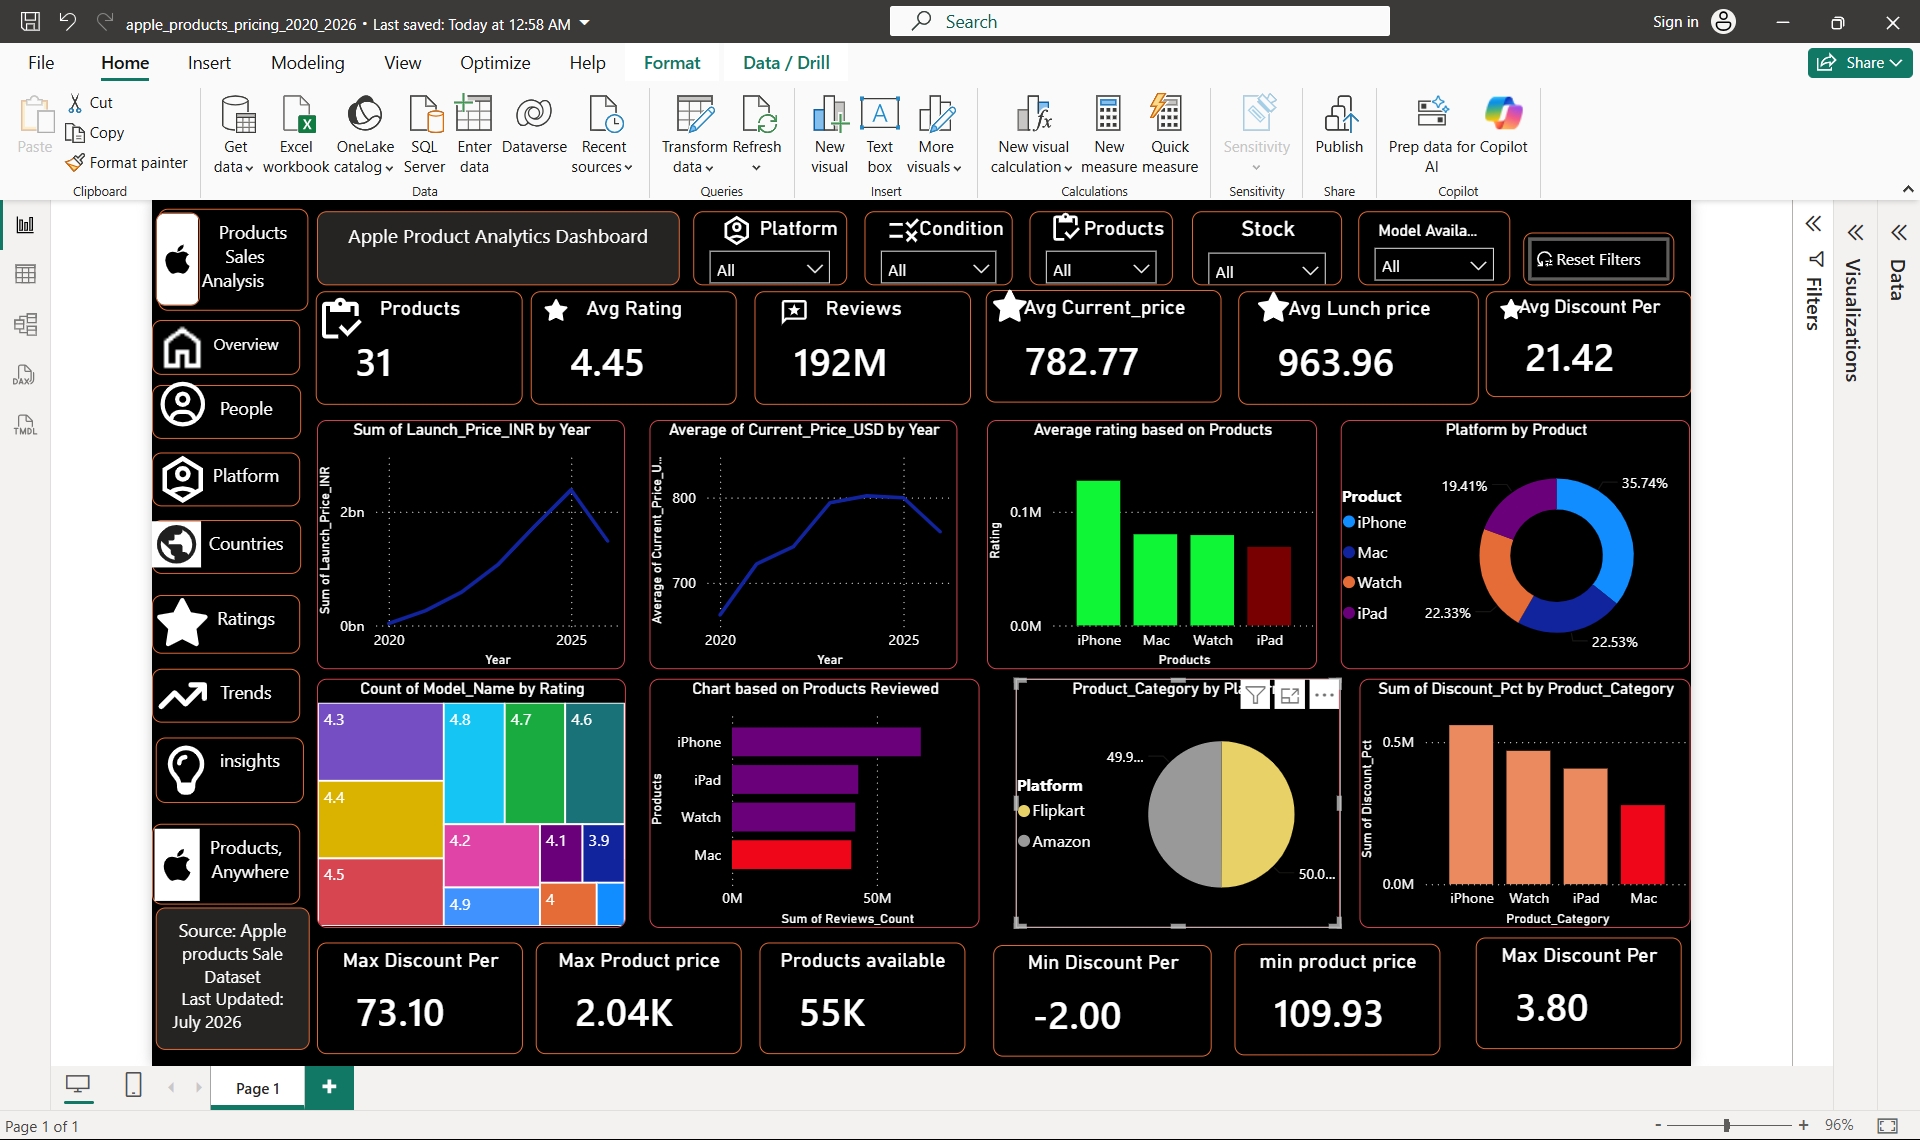

What the dashboard file says about the page in this screenshot:
{"tool":"powerbi","page":{"name":"Page 1","canvas":[1280,720],"ordinal":0},"visuals":[{"type":"textbox","box":[137.2,9.6,301.9,61.7],"z":0},{"type":"textbox","box":[2.8,588.5,128,118.3],"z":1000},{"type":"slicer","title":"Stock","fields":{"Values":["apple_products_pricing_2020_2026.Stock_Status"]},"box":[864.5,9.6,124.9,61.7],"z":2000},{"type":"textbox","box":[5,7,124.4,84.9],"z":3000,"group":"g30"},{"type":"slicer","fields":{"Values":["apple_products_pricing_2020_2026.Model_Name"]},"box":[1003.1,9.6,126.2,61.7],"z":3000},{"type":"textbox","box":[0,100.2,123.5,45.3],"z":3000,"group":"g5"},{"type":"textbox","box":[0,152.9,123.8,44.5],"z":3000,"group":"g23"},{"type":"textbox","box":[0,210.1,123.5,44.7],"z":3000,"group":"g24"},{"type":"textbox","box":[0,265.7,123.8,44.5],"z":3000,"group":"g25"},{"type":"textbox","box":[0,328.3,123.5,48.9],"z":3000,"group":"g26"},{"type":"textbox","box":[0,389.6,123.5,44.7],"z":3000,"group":"g27"},{"type":"textbox","box":[2.8,446.6,123.5,54.5],"z":3000,"group":"g28"},{"type":"textbox","box":[0,519,123.5,67.1],"z":3000,"group":"g29"},{"type":"image","box":[2.8,10.4,36.4,77.9],"z":4000,"group":"g30"},{"type":"actionButton","box":[1140.4,27.2,126,44.3],"z":4000},{"type":"image","box":[0,100.2,50.8,45.3],"z":4000,"group":"g5"},{"type":"image","box":[0,146.1,50.8,46.7],"z":4000,"group":"g23"},{"type":"image","box":[0,210.1,50.8,44.7],"z":4000,"group":"g24"},{"type":"image","box":[0,266.3,40.5,38.8],"z":4000,"group":"g25"},{"type":"image","box":[0,328.3,50.8,48.9],"z":4000,"group":"g26"},{"type":"image","box":[0,389.6,50.8,44.7],"z":4000,"group":"g27"},{"type":"image","box":[2.8,446.6,50.8,54.5],"z":4000,"group":"g28"},{"type":"image","box":[1.6,523.5,37.6,59.8],"z":4000,"group":"g29"},{"type":"image","box":[755.3,19.2,28.8,8.4],"z":5000},{"type":"image","box":[765.3,29.2,28.8,8.4],"z":6000},{"type":"image","box":[1149.1,33.6,16.8,31.2],"z":7000},{"type":"columnChart","title":"Average rating based on Products","fields":{"Category":["apple_products_pricing_2020_2026.Product_Category"],"Y":["Sum(apple_products_pricing_2020_2026.Rating)"]},"box":[694.2,182.6,274.4,207],"z":8000},{"type":"group","id":"g1","title":"Group 1","box":[135.8,75.9,172.1,94.2],"z":9000},{"type":"group","id":"g2","title":"Group 3","box":[730,9.6,119.4,61.7],"z":10000},{"type":"group","id":"g3","title":"Group 4","box":[591.9,9.3,123.3,61.6],"z":11000},{"type":"group","id":"g4","title":"Group 5","box":[450.1,9.6,127.6,61.7],"z":12000},{"type":"group","id":"g5","title":"Group 6","box":[0,100.2,123.8,45.9],"z":13000},{"type":"group","id":"g6","title":"Group 1","box":[315.1,75.6,170.9,94.2],"z":14000},{"type":"group","id":"g7","title":"Group 1","box":[501.2,75.6,180.2,94.2],"z":15000},{"type":"group","id":"g8","title":"Group 1","box":[688.4,73.3,201.2,96.5],"z":16000},{"type":"slicer","title":"Platform","fields":{"Values":["apple_products_pricing_2020_2026.Platform"]},"box":[450.1,9.6,127.6,61.7],"z":16004,"group":"g4"},{"type":"slicer","title":"Condition","fields":{"Values":["apple_products_pricing_2020_2026.Condition"]},"box":[591.9,9.3,123.3,61.6],"z":16005,"group":"g3"},{"type":"slicer","title":"Products","fields":{"Values":["apple_products_pricing_2020_2026.Product_Category"]},"box":[730,9.6,119.4,61.7],"z":16006,"group":"g2"},{"type":"cardVisual","title":"Avg Lunch price","fields":{"Data":["Avg(apple_products_pricing_2020_2026.Launch_Price_USD)"]},"box":[903.5,75.1,200.3,94.4],"z":16011,"group":"g10"},{"type":"cardVisual","title":"Avg Rating","fields":{"Data":["Avg(apple_products_pricing_2020_2026.Rating)"]},"box":[315.1,75.6,170.9,94.2],"z":16011,"group":"g11"},{"type":"cardVisual","title":"Reviews","fields":{"Data":["Sum(apple_products_pricing_2020_2026.Reviews_Count)"]},"box":[501.2,75.6,180.2,94.2],"z":16011,"group":"g12"},{"type":"cardVisual","title":"Avg Current_price","fields":{"Data":["Avg(apple_products_pricing_2020_2026.Current_Price_USD)"]},"box":[693.9,75.6,196.2,93.7],"z":16011,"group":"g9"},{"type":"cardVisual","title":"Products","fields":{"Data":["apple_products_pricing_2020_2026.Total Products"]},"box":[135.8,75.9,172.1,94.2],"z":16011,"group":"g13"},{"type":"cardVisual","title":"Avg Discount Per","fields":{"Data":["Avg(apple_products_pricing_2020_2026.Discount_Pct)"]},"box":[1109,76.1,170.9,88.4],"z":16011,"group":"g14"},{"type":"cardVisual","title":"Max Discount Per","fields":{"Data":["apple_products_pricing_2020_2026.lowest rating"]},"box":[1100.8,612.8,170.9,93],"z":16011,"group":"g15"},{"type":"cardVisual","title":"Max Discount Per","fields":{"Data":["apple_products_pricing_2020_2026.Max Discount"]},"box":[137.2,617.4,170.9,93],"z":16011,"group":"g16"},{"type":"cardVisual","title":"Max Product price","fields":{"Data":["apple_products_pricing_2020_2026.Highest Product Price"]},"box":[318.6,617.4,170.9,93],"z":16011,"group":"g17"},{"type":"cardVisual","title":"Products  available","fields":{"Data":["apple_products_pricing_2020_2026.Total stock Available"]},"box":[504.7,617.4,170.9,93],"z":16011,"group":"g18"},{"type":"cardVisual","title":"min product price","fields":{"Data":["apple_products_pricing_2020_2026.Min product price"]},"box":[900.2,618.9,170.9,93],"z":16011,"group":"g19"},{"type":"cardVisual","title":"Min Discount Per","fields":{"Data":["apple_products_pricing_2020_2026.Min Discount per"]},"box":[699,619.6,181.4,93],"z":16011,"group":"g20"},{"type":"image","box":[688.4,73.3,50.1,32.6],"z":16016,"group":"g9"},{"type":"image","box":[912.8,74.4,40.3,30.2],"z":16016,"group":"g10"},{"type":"image","box":[135.8,78.1,41,43.7],"z":16016,"group":"g13"},{"type":"image","box":[316,81,40.1,22.1],"z":16016,"group":"g11"},{"type":"image","box":[507.7,81.1,53.3,24.9],"z":16016,"group":"g12"},{"type":"image","box":[1109.9,81.2,40.1,20.7],"z":16016,"group":"g14"},{"type":"image","box":[745.6,9.6,28.8,27.6],"z":16017,"group":"g2"},{"type":"image","box":[471.9,12,28.8,27.6],"z":16020,"group":"g4"},{"type":"image","box":[608,10.5,32.4,30],"z":16021,"group":"g3"},{"type":"group","id":"g9","title":"Group 2","box":[688.4,73.3,201.7,96],"z":16025,"group":"g8"},{"type":"group","id":"g10","title":"Group 2","box":[903.5,74.4,200.3,95.1],"z":16025,"group":"g21"},{"type":"group","id":"g11","title":"Group 2","box":[315.1,75.6,170.9,94.2],"z":16025,"group":"g6"},{"type":"group","id":"g12","title":"Group 2","box":[501.2,75.6,180.2,94.2],"z":16025,"group":"g7"},{"type":"group","id":"g13","title":"Group 2","box":[135.8,75.9,172.1,94.2],"z":16025,"group":"g1"},{"type":"group","id":"g14","title":"Group 2","box":[1109,76.1,170.9,88.4],"z":16025,"group":"g22"},{"type":"group","id":"g15","title":"Group 2","box":[1100.8,612.8,170.9,93],"z":16025,"group":"g36"},{"type":"group","id":"g16","title":"Group 2","box":[137.2,617.4,170.9,93],"z":16025,"group":"g31"},{"type":"group","id":"g17","title":"Group 2","box":[318.6,617.4,170.9,93],"z":16025,"group":"g32"},{"type":"group","id":"g18","title":"Group 2","box":[504.7,617.4,170.9,93],"z":16025,"group":"g33"},{"type":"group","id":"g19","title":"Group 2","box":[900.2,618.9,170.9,93],"z":16025,"group":"g35"},{"type":"group","id":"g20","title":"Group 2","box":[699,619.6,181.4,93],"z":16025,"group":"g34"},{"type":"group","id":"g21","title":"Group 1","box":[903.5,74.4,200,95.3],"z":17000},{"type":"group","id":"g22","title":"Group 1","box":[1109,76.1,170.9,88.4],"z":18000},{"type":"group","id":"g23","title":"Group 6","box":[0,146.1,123.8,51.4],"z":19000},{"type":"group","id":"g24","title":"Group 6","box":[0,210.1,123.8,44.5],"z":20000},{"type":"group","id":"g25","title":"Group 6","box":[0,265.7,123.8,44.5],"z":21000},{"type":"group","id":"g26","title":"Group 6","box":[0,328.3,123.8,48.7],"z":22000},{"type":"group","id":"g27","title":"Group 6","box":[0,389.6,123.8,44.5],"z":23000},{"type":"group","id":"g28","title":"Group 6","box":[2.8,446.6,123.8,54.3],"z":24000},{"type":"group","id":"g29","title":"Group 6","box":[0,519,122.4,66.8],"z":25000},{"type":"group","id":"g30","title":"Group 6","box":[2.8,7,126.6,84.9],"z":26000},{"type":"lineChart","fields":{"Category":["apple_products_pricing_2020_2026.Year"],"Y":["Avg(apple_products_pricing_2020_2026.Current_Price_USD)"]},"box":[414,182.6,255.8,207],"z":27000},{"type":"lineChart","fields":{"Category":["apple_products_pricing_2020_2026.Year"],"Y":["Sum(apple_products_pricing_2020_2026.Launch_Price_INR)"]},"box":[137.2,182.6,255.8,207],"z":28000},{"type":"donutChart","fields":{"Y":["CountNonNull(apple_products_pricing_2020_2026.Platform)"],"Category":["apple_products_pricing_2020_2026.Product_Category"]},"box":[988.4,182.6,290.7,207],"z":29000},{"type":"treemap","fields":{"Values":["CountNonNull(apple_products_pricing_2020_2026.Model_Name)"],"Details":["apple_products_pricing_2020_2026.Rating"]},"box":[137.2,397.7,257,207],"z":30000},{"type":"group","id":"g31","title":"Group 1","box":[137.2,617.4,170.9,93],"z":31000},{"type":"barChart","title":"Chart based on Products Reviewed","fields":{"Category":["apple_products_pricing_2020_2026.Product_Category"],"Y":["Sum(apple_products_pricing_2020_2026.Reviews_Count)"]},"box":[414,397.7,274.4,207],"z":31001},{"type":"pieChart","title":"Product_Category by Platform","fields":{"Y":["CountNonNull(apple_products_pricing_2020_2026.Product_Category)"],"Category":["apple_products_pricing_2020_2026.Platform"]},"box":[718.6,397.7,269.8,207],"z":31002},{"type":"clusteredColumnChart","fields":{"Category":["apple_products_pricing_2020_2026.Product_Category"],"Y":["Sum(apple_products_pricing_2020_2026.Discount_Pct)"]},"box":[1003.5,397.7,275.6,207],"z":31003},{"type":"group","id":"g32","title":"Group 1","box":[318.6,617.4,170.9,93],"z":31004},{"type":"group","id":"g33","title":"Group 1","box":[504.7,617.4,170.9,93],"z":31005},{"type":"group","id":"g34","title":"Group 1","box":[699,619.6,181.4,93],"z":31006},{"type":"group","id":"g35","title":"Group 1","box":[900.2,618.9,170.9,93],"z":31007},{"type":"group","id":"g36","title":"Group 1","box":[1100.8,612.8,170.9,93],"z":31008}]}

Visuals, with their boxes in screenshot pixels (x1, y1, x2, y2):
textbox: crop(148, 0, 628, 38)
textbox: crop(0, 861, 138, 1049)
"Stock" slicer: crop(1305, 0, 1503, 38)
textbox: crop(0, 0, 136, 71)
slicer - apple_products_pricing_2020_2026.Model_Name: crop(1525, 0, 1726, 38)
textbox: crop(0, 84, 126, 156)
textbox: crop(0, 168, 127, 239)
textbox: crop(0, 259, 126, 330)
textbox: crop(0, 347, 127, 418)
textbox: crop(0, 447, 126, 525)
textbox: crop(0, 544, 126, 616)
textbox: crop(0, 635, 131, 722)
textbox: crop(0, 750, 126, 857)
actionButton: crop(1743, 0, 1919, 39)
image: crop(0, 84, 11, 156)
image: crop(0, 157, 11, 232)
image: crop(0, 259, 11, 330)
image: crop(0, 447, 11, 525)
image: crop(0, 544, 11, 616)
image: crop(0, 635, 15, 722)
image: crop(1757, 0, 1784, 28)
"Average rating based on Products" columnChart: crop(1034, 215, 1470, 544)
"Group 1" group: crop(146, 46, 420, 195)
"Group 3" group: crop(1091, 0, 1281, 38)
"Group 4" group: crop(871, 0, 1067, 38)
"Group 5" group: crop(646, 0, 849, 38)
"Group 6" group: crop(0, 84, 127, 157)
"Group 1" group: crop(431, 45, 703, 195)
"Group 1" group: crop(727, 45, 1013, 195)
"Group 1" group: crop(1025, 42, 1344, 195)
"Platform" slicer: crop(646, 0, 849, 38)
"Condition" slicer: crop(871, 0, 1067, 38)
"Products" slicer: crop(1091, 0, 1281, 38)
"Avg Lunch price" cardVisual: crop(1367, 44, 1685, 195)
"Avg Rating" cardVisual: crop(431, 45, 703, 195)
"Reviews" cardVisual: crop(727, 45, 1013, 195)
"Avg Current_price" cardVisual: crop(1033, 45, 1345, 194)
"Products" cardVisual: crop(146, 46, 420, 195)
"Avg Discount Per" cardVisual: crop(1693, 46, 1919, 187)
"Max Discount Per" cardVisual: crop(1680, 899, 1919, 1047)
"Max Discount Per" cardVisual: crop(148, 907, 420, 1055)
"Max Product price" cardVisual: crop(437, 907, 708, 1055)
"Products  available" cardVisual: crop(732, 907, 1004, 1055)
"min product price" cardVisual: crop(1361, 909, 1633, 1057)
"Min Discount Per" cardVisual: crop(1041, 910, 1330, 1058)
image: crop(1025, 42, 1104, 93)
image: crop(1381, 43, 1445, 91)
image: crop(146, 49, 211, 119)
image: crop(432, 54, 496, 89)
image: crop(737, 54, 822, 94)
image: crop(1695, 54, 1758, 87)
"Group 2" group: crop(1025, 42, 1345, 194)
"Group 2" group: crop(1367, 43, 1685, 195)
"Group 2" group: crop(431, 45, 703, 195)
"Group 2" group: crop(727, 45, 1013, 195)
"Group 2" group: crop(146, 46, 420, 195)
"Group 2" group: crop(1693, 46, 1919, 187)
"Group 2" group: crop(1680, 899, 1919, 1047)
"Group 2" group: crop(148, 907, 420, 1055)
"Group 2" group: crop(437, 907, 708, 1055)
"Group 2" group: crop(732, 907, 1004, 1055)
"Group 2" group: crop(1361, 909, 1633, 1057)
"Group 2" group: crop(1041, 910, 1330, 1058)
"Group 1" group: crop(1367, 43, 1685, 195)
"Group 1" group: crop(1693, 46, 1919, 187)
"Group 6" group: crop(0, 157, 127, 239)
"Group 6" group: crop(0, 259, 127, 330)
"Group 6" group: crop(0, 347, 127, 418)
"Group 6" group: crop(0, 447, 127, 524)
"Group 6" group: crop(0, 544, 127, 615)
"Group 6" group: crop(0, 635, 131, 721)
"Group 6" group: crop(0, 750, 125, 856)
"Group 6" group: crop(0, 0, 136, 71)
lineChart - apple_products_pricing_2020_2026.Year x Avg(apple_products_pricing_2020_2026.Current_Price_USD): crop(588, 215, 995, 544)
lineChart - apple_products_pricing_2020_2026.Year x Sum(apple_products_pricing_2020_2026.Launch_Price_INR): crop(148, 215, 555, 544)
donutChart - CountNonNull(apple_products_pricing_2020_2026.Platform) x apple_products_pricing_2020_2026.Product_Category: crop(1502, 215, 1919, 544)
treemap - CountNonNull(apple_products_pricing_2020_2026.Model_Name) x apple_products_pricing_2020_2026.Rating: crop(148, 557, 557, 886)
"Group 1" group: crop(148, 907, 420, 1055)
"Chart based on Products Reviewed" barChart: crop(588, 557, 1025, 886)
"Product_Category by Platform" pieChart: crop(1073, 557, 1502, 886)
clusteredColumnChart - apple_products_pricing_2020_2026.Product_Category x Sum(apple_products_pricing_2020_2026.Discount_Pct): crop(1526, 557, 1919, 886)
"Group 1" group: crop(437, 907, 708, 1055)
"Group 1" group: crop(732, 907, 1004, 1055)
"Group 1" group: crop(1041, 910, 1330, 1058)
"Group 1" group: crop(1361, 909, 1633, 1057)
"Group 1" group: crop(1680, 899, 1919, 1047)
